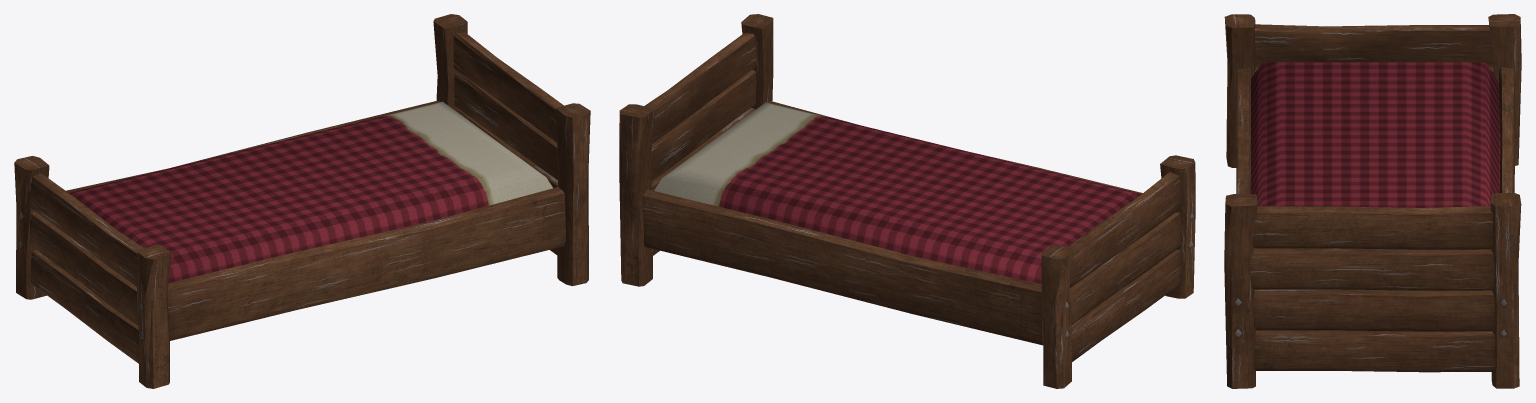
3 views of the same model, side by side, from view 1: azimuth 30°, elevation 25°; view 2: azimuth 150°, elevation 25°; view 3: azimuth 270°, elevation 25° (orthographic). The views are drawn at different scales.
Visible parts, largest first — view 1: defaultobject.001_meshId1_name, defaultobject_meshId0_name; view 2: defaultobject.001_meshId1_name, defaultobject_meshId0_name; view 3: defaultobject.001_meshId1_name, defaultobject_meshId0_name.
Part boxes in pixels (box(x1,y1,x2,y2)): defaultobject.001_meshId1_name: box(14, 14, 590, 388); defaultobject_meshId0_name: box(69, 101, 552, 282); defaultobject.001_meshId1_name: box(619, 14, 1195, 388); defaultobject_meshId0_name: box(654, 102, 1141, 284); defaultobject.001_meshId1_name: box(1224, 14, 1521, 388); defaultobject_meshId0_name: box(1250, 62, 1500, 207).
Size of the model in its own units: 21.5 by 7.75 by 11.42.
2 materials, 2 textured.
